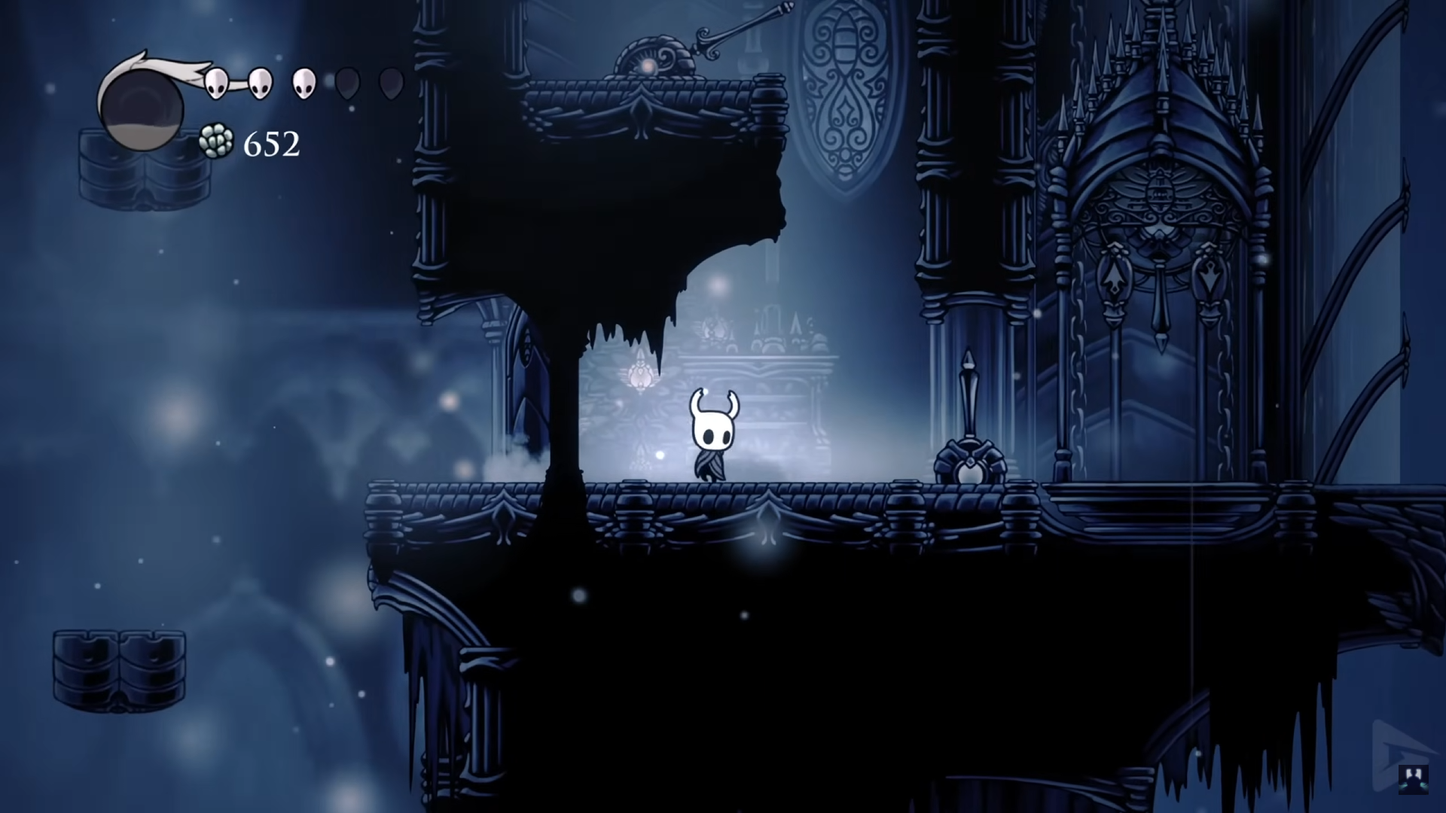HK: (686, 385, 741, 483)
